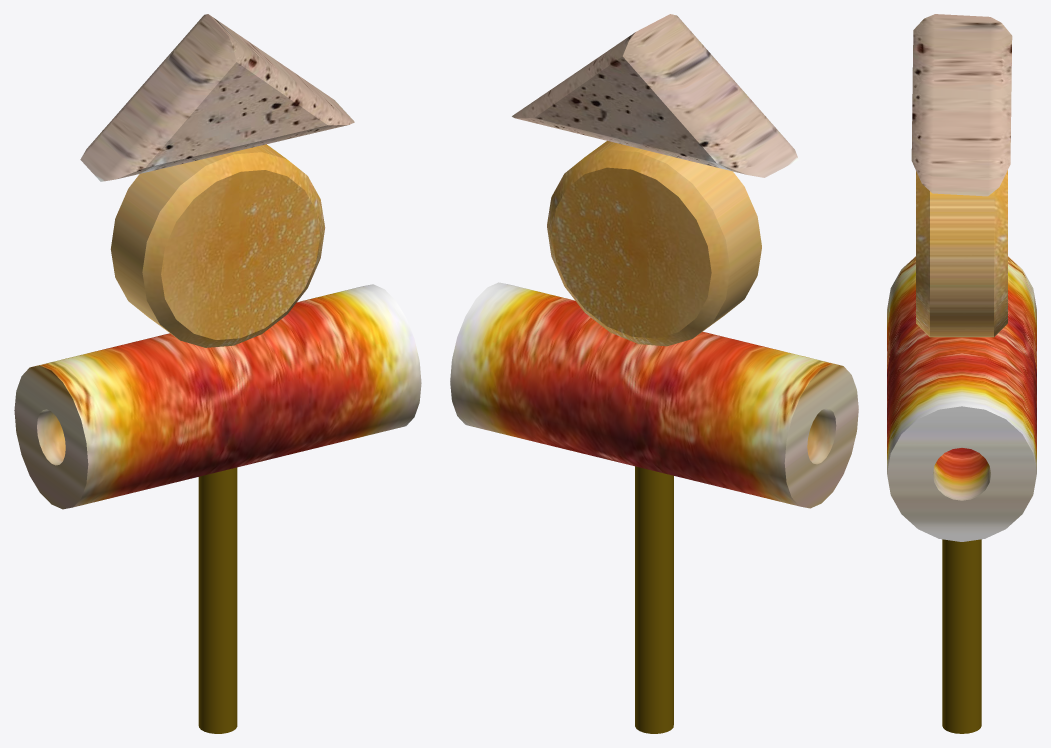
File: Oden.fbx
3 renders of one model, left to right at view 1: azimuth 30°, elevation 25°; view 2: azimuth 150°, elevation 25°; view 3: azimuth 270°, elevation 25°, orthographic.
Visible parts, largest first — view 1: pCylinder6; view 2: pCylinder6; view 3: pCylinder6.
Boxes of the visible parts, <box> form: pCylinder6: <box>14,14,421,733</box>; pCylinder6: <box>450,14,858,733</box>; pCylinder6: <box>887,14,1036,733</box>.
Bounding box in the file's own units: 3.65 × 7.32 × 1.4.
Materials: 2 (1 with a texture image).
